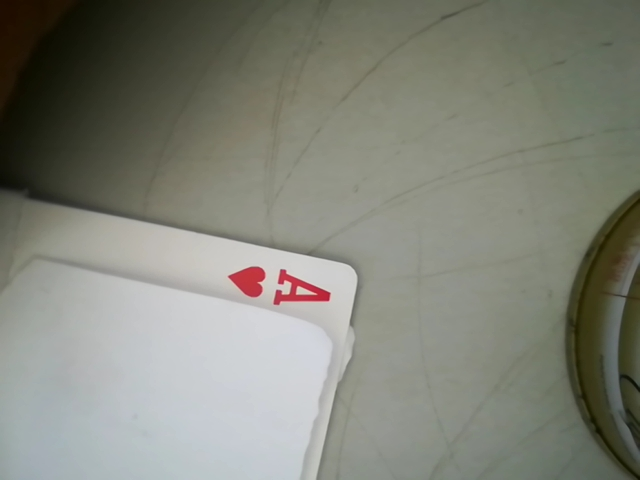hx a: (222, 260, 351, 311)
